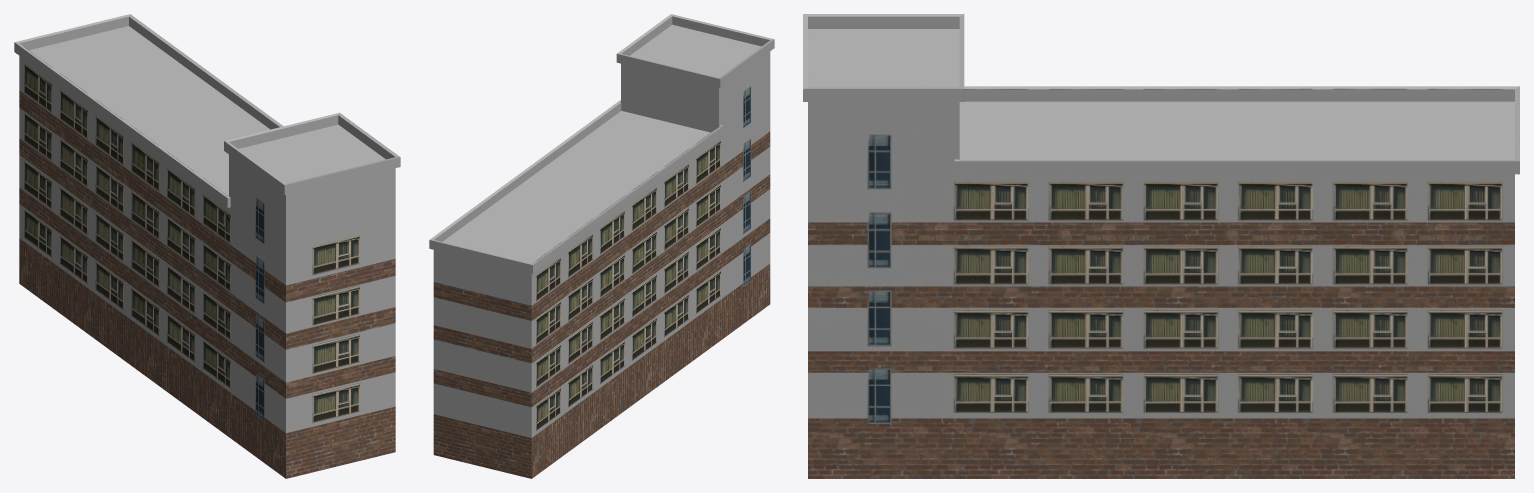
The picture shows the model from 3 angles, left to right: view 1: azimuth 30°, elevation 25°; view 2: azimuth 150°, elevation 25°; view 3: azimuth 270°, elevation 25°; orthographic projection. The views are drawn at different scales.
Visible parts, largest first — view 1: Cube.001; view 2: Cube.001; view 3: Cube.001.
Boxes of the visible parts, x1,y1,x2,y2 form: Cube.001: [14, 14, 400, 478]; Cube.001: [429, 14, 774, 478]; Cube.001: [803, 14, 1519, 478].
Size of the model in its own units: 2.34 by 5.71 by 9.46.
Materials: 1 (1 with a texture image).
